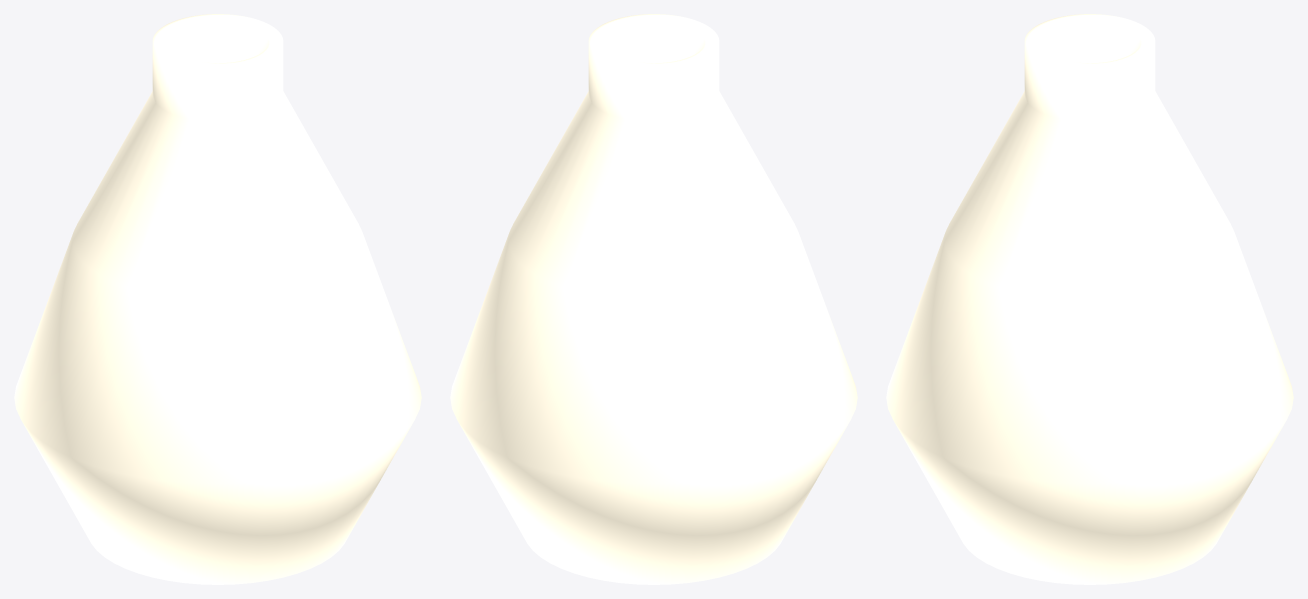
The model's file is ref02_10.glb.
3 views of the same model, side by side, from view 1: azimuth 30°, elevation 25°; view 2: azimuth 150°, elevation 25°; view 3: azimuth 270°, elevation 25° (orthographic).
Parts seen in each view (by area): view 1: ref02_10; view 2: ref02_10; view 3: ref02_10.
Boxes of the visible parts, <box> form: ref02_10: <box>14,14,421,584</box>; ref02_10: <box>450,14,857,584</box>; ref02_10: <box>886,14,1293,584</box>.
Bounding box in the file's own units: 0.28 × 0.37 × 0.28.
